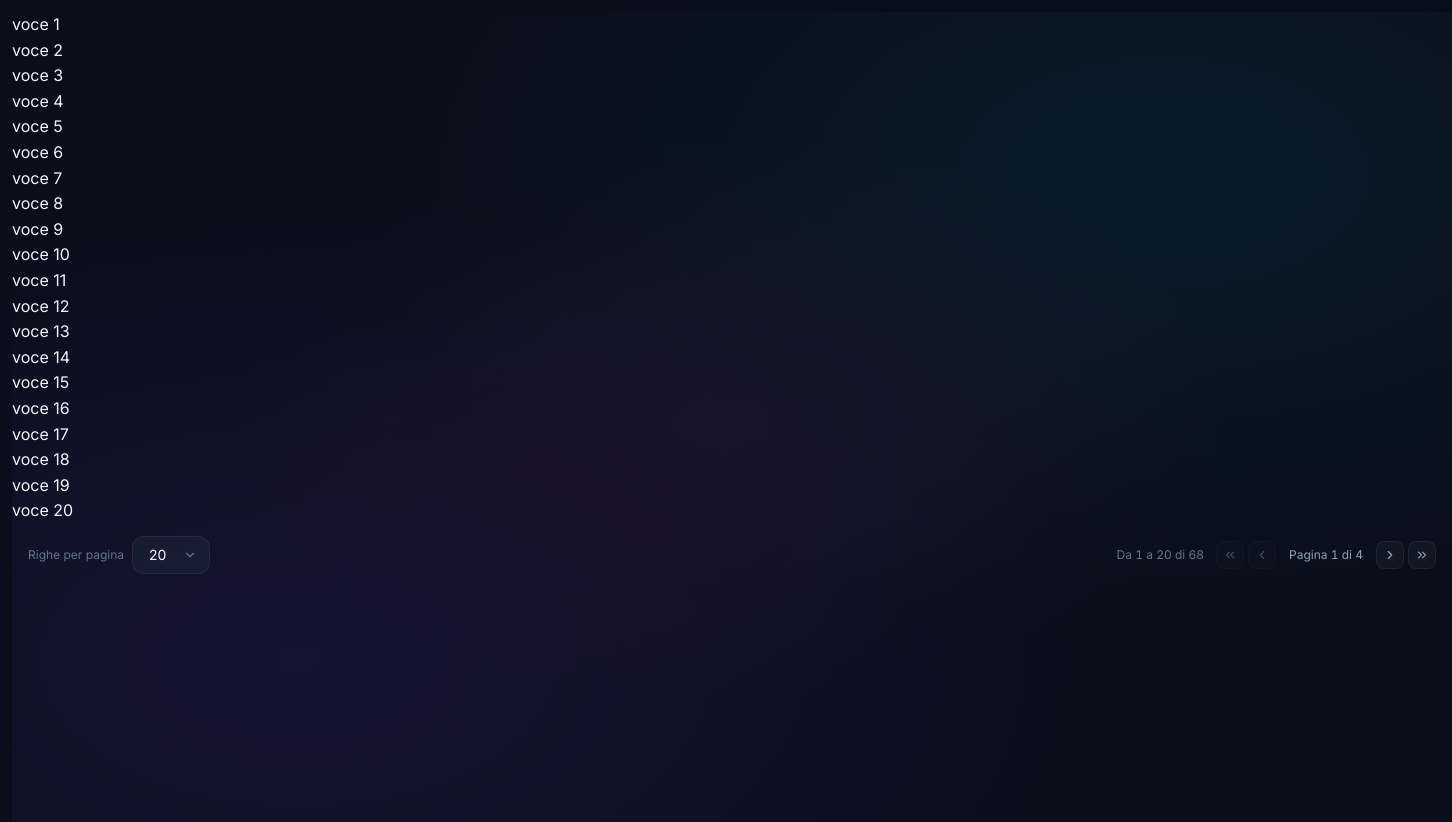
Pagination › sfoglia avanti e indietro, e salta agli estremi
Click the button named "Pagina Successiva" at (1390, 555), box [1376,541,1404,569]
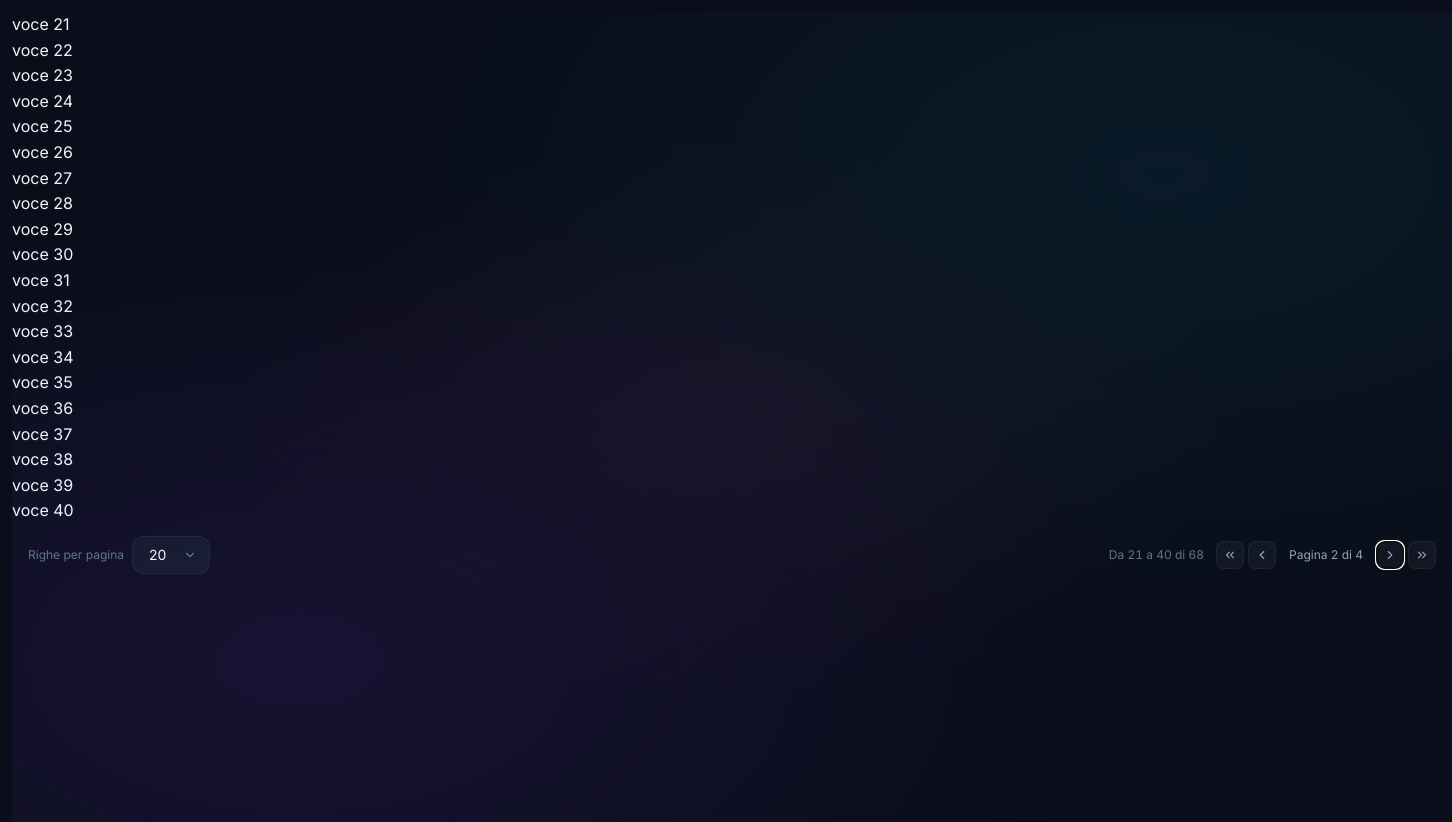
Check: the list item "voce 21" is shown, box [12,14,70,34]
Click the button named "Ultima Pagina" at (1422, 555), box [1408,541,1436,569]
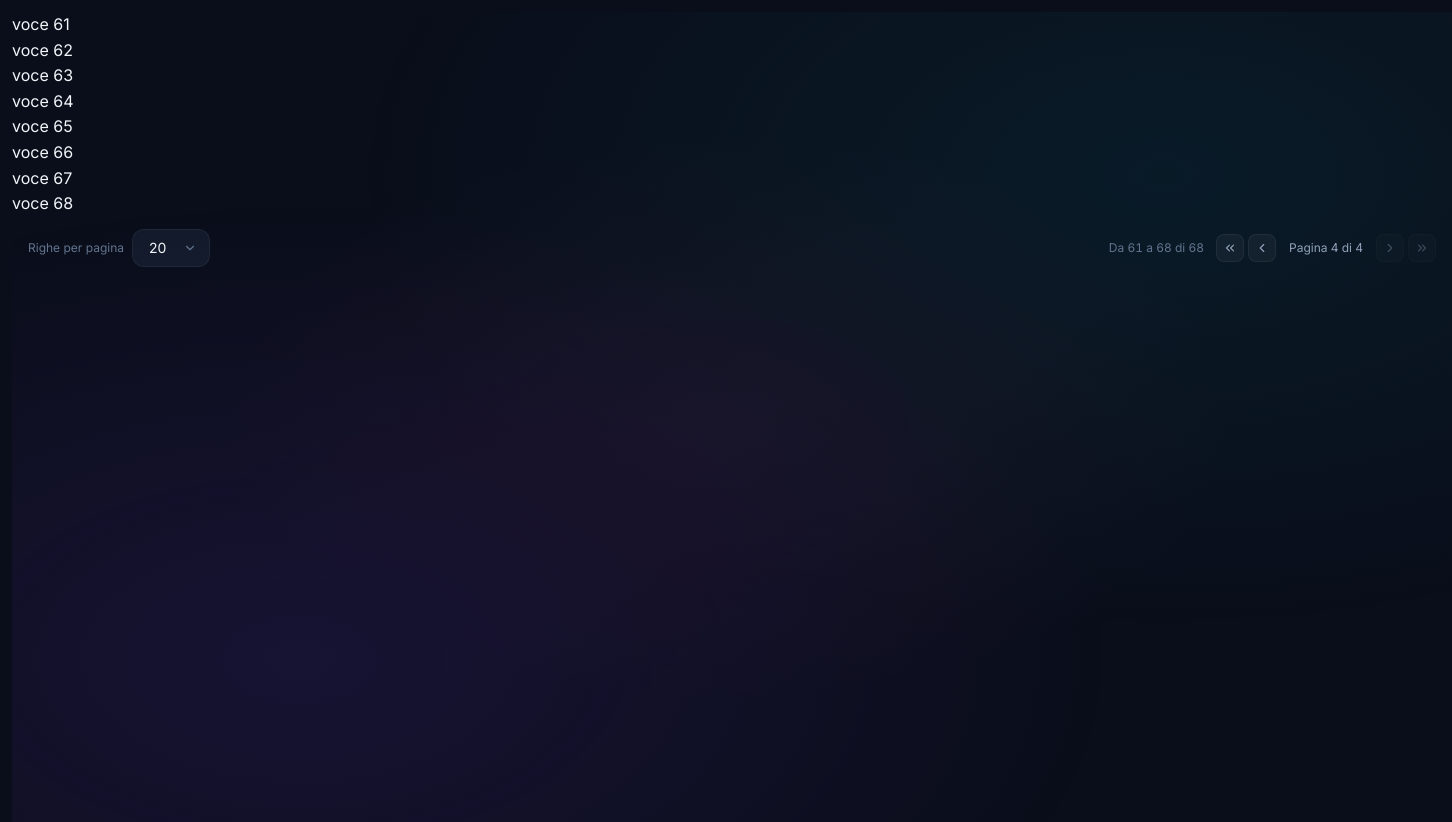
Check: the text "Da 61 a 68 di 68" is shown, box [1109,240,1204,256]
Click the button named "Prima Pagina" at (1230, 248), box [1216,234,1244,262]
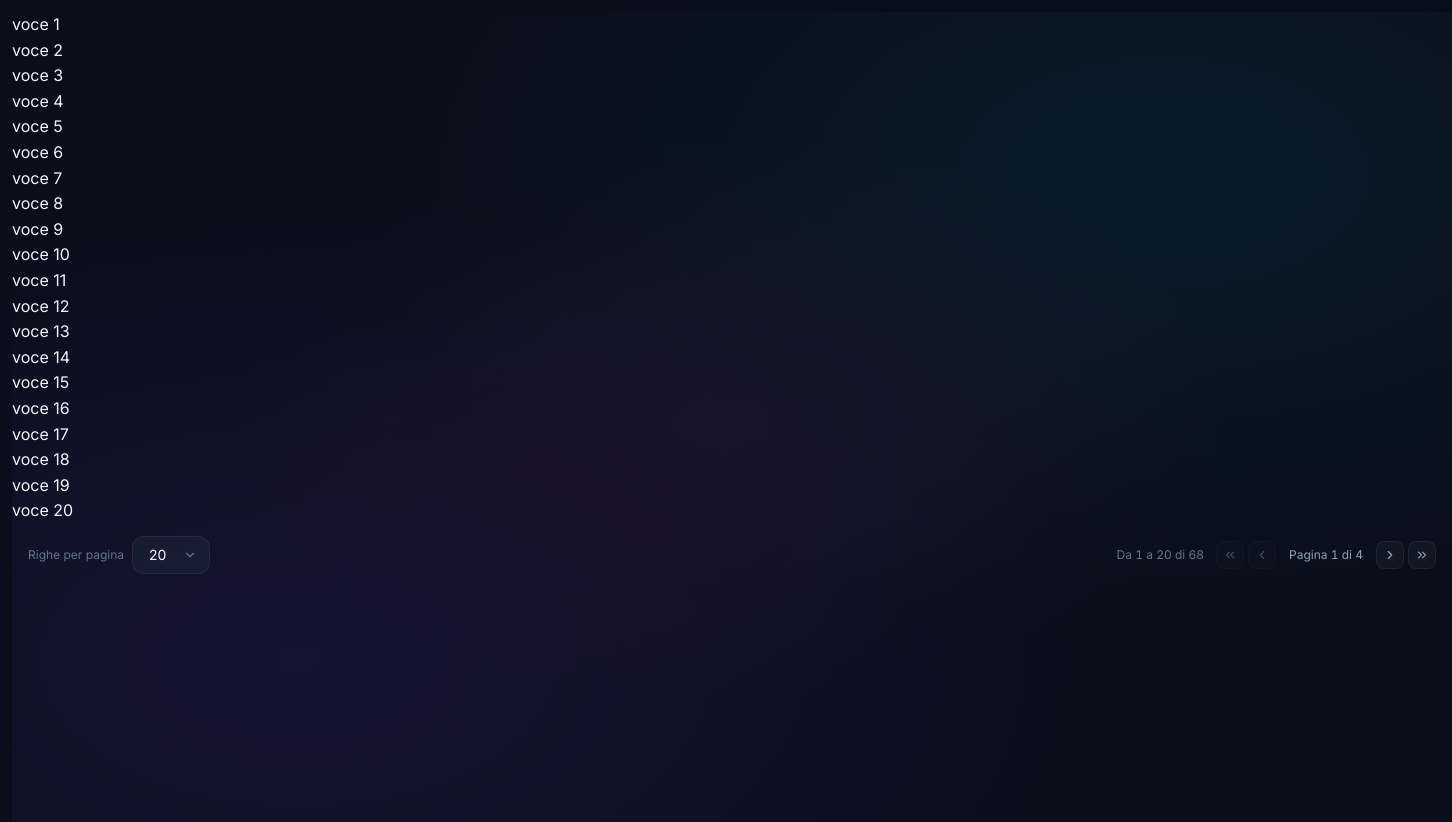
Check: the list item "voce 1" is shown, box [12,14,60,34]
